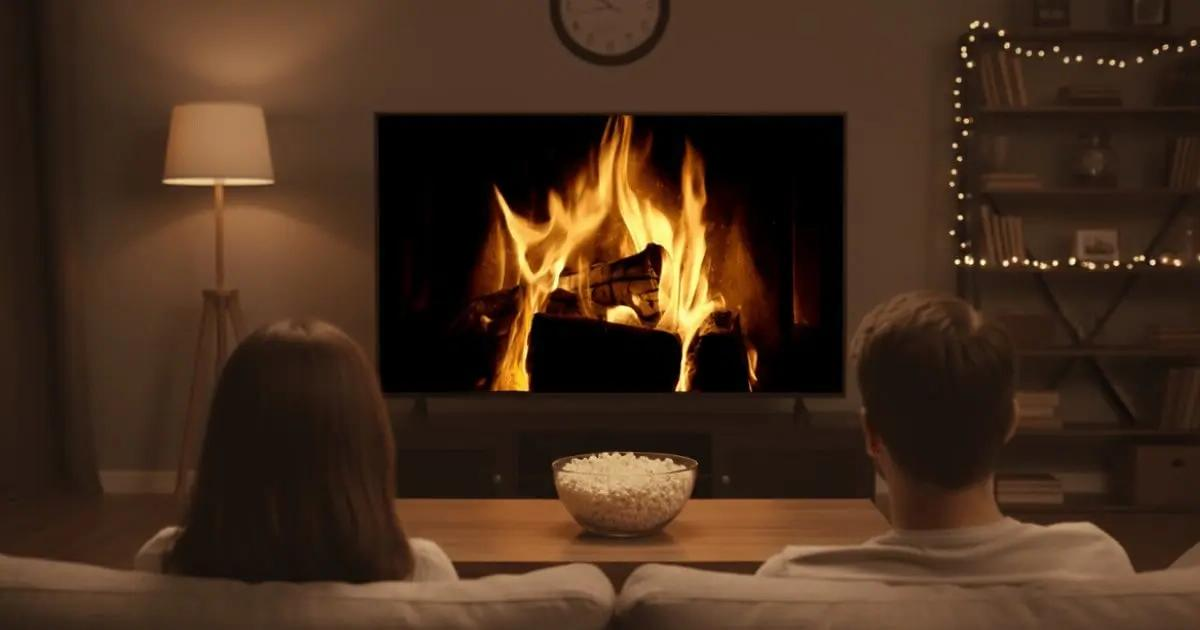controlled_fire: (414, 111, 794, 394)
